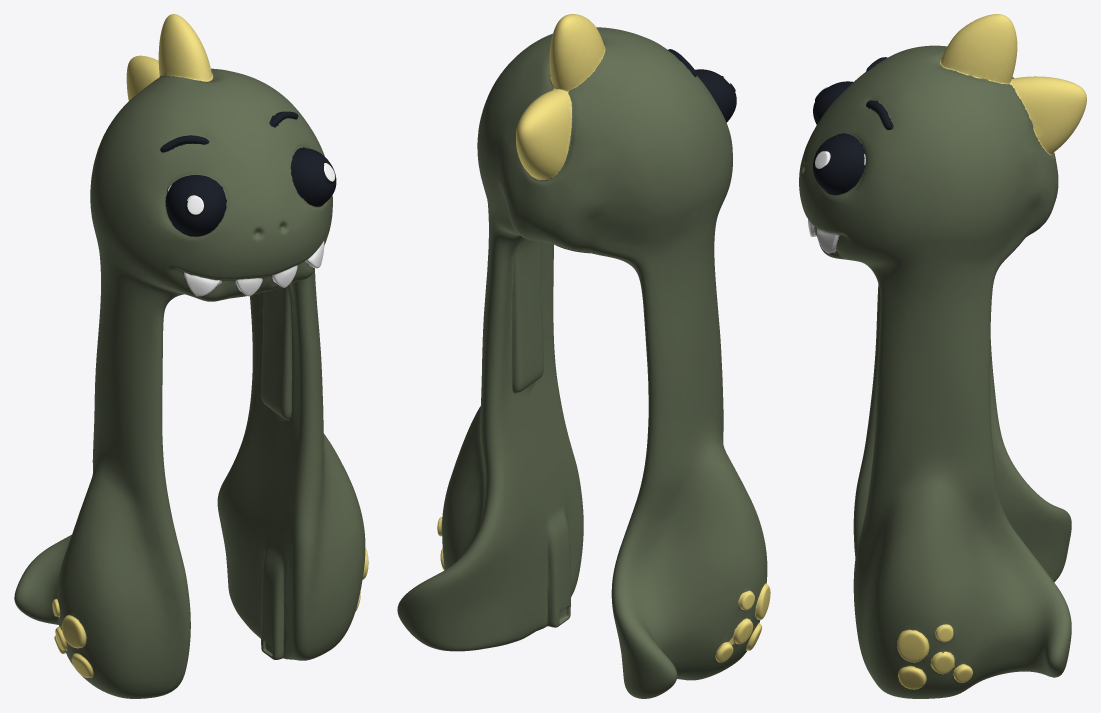
File: dinossauroscopio.glb
3 views of the same model, side by side, from view 1: azimuth 30°, elevation 25°; view 2: azimuth 150°, elevation 25°; view 3: azimuth 270°, elevation 25° (orthographic). The views are drawn at different scales.
Visible parts, largest first — view 1: dinossauroscopio; view 2: dinossauroscopio; view 3: dinossauroscopio.
Boxes of the visible parts, bbox=[...] form: dinossauroscopio: bbox=[14, 14, 368, 698]; dinossauroscopio: bbox=[397, 14, 770, 698]; dinossauroscopio: bbox=[799, 14, 1086, 698].
Bounding box in the file's own units: 0.952 × 1.9 × 0.7809.
